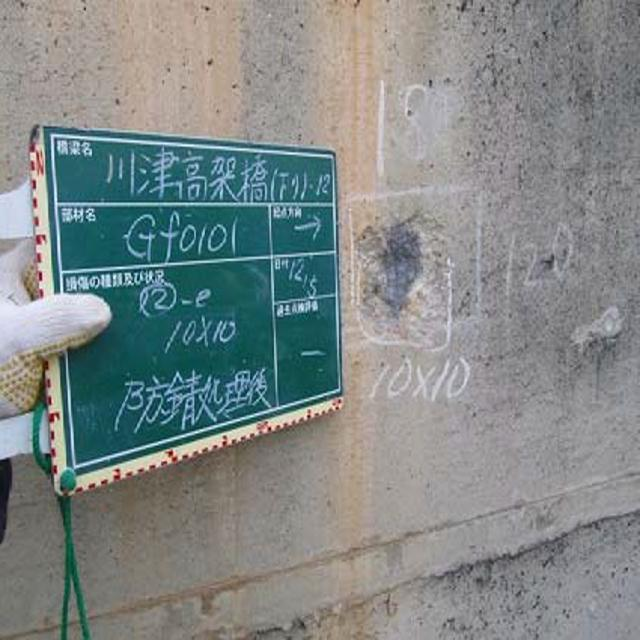spalling: (356, 214, 460, 343)
